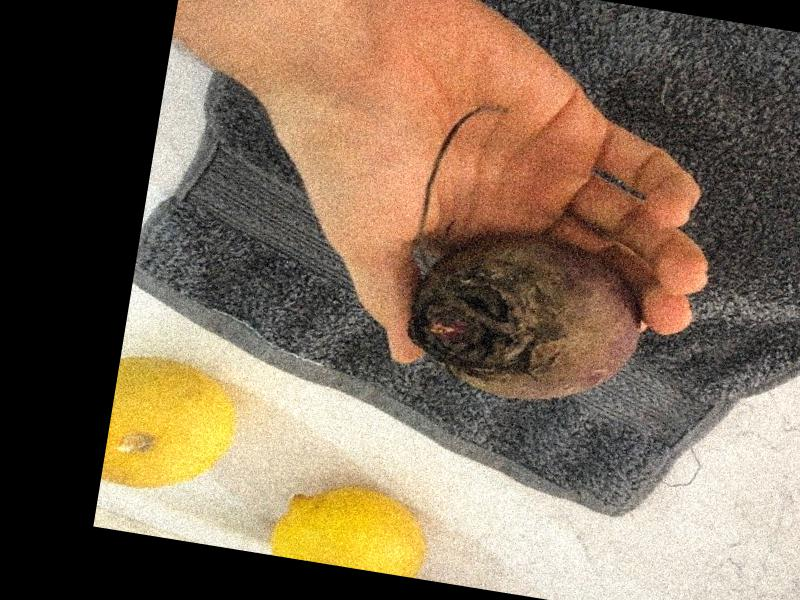Beet: (400, 98, 674, 417)
